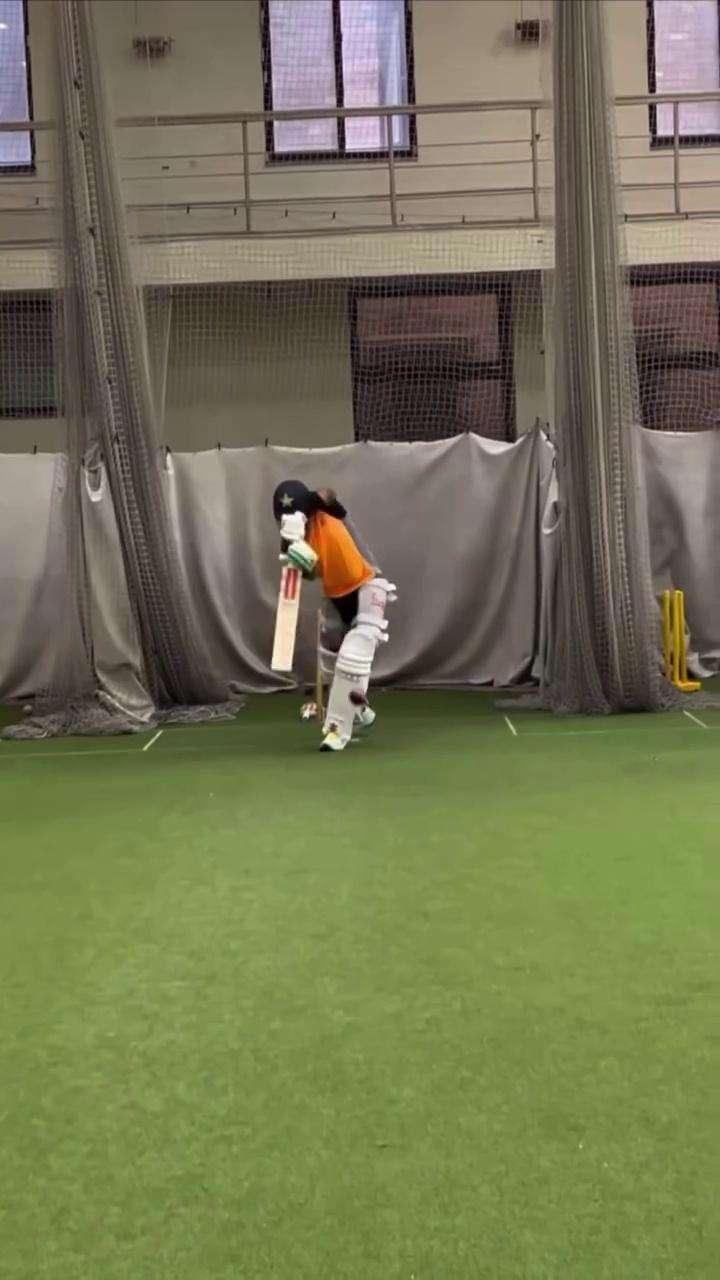bat: (271, 566, 302, 672)
